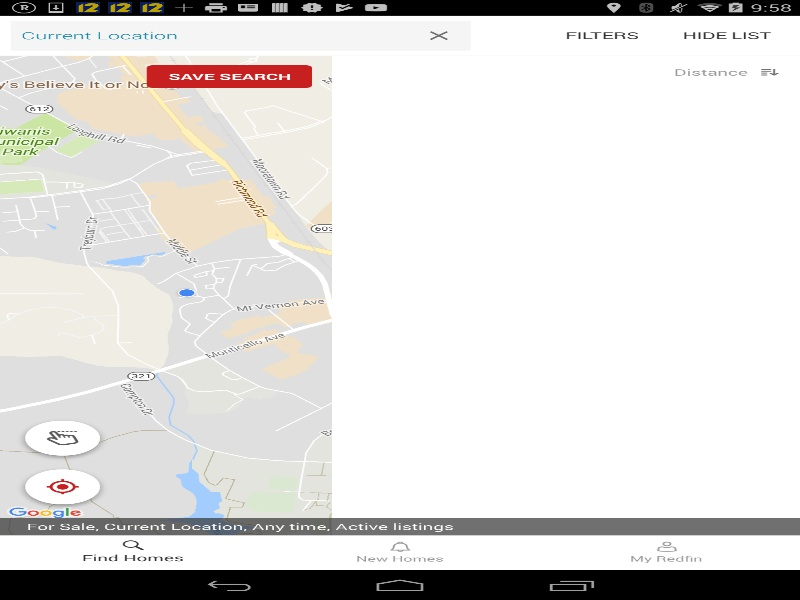Button: (13, 416, 112, 463), (13, 465, 112, 511), (146, 65, 312, 87), (554, 20, 672, 50), (672, 20, 789, 50), (408, 26, 470, 45)
Input: (21, 20, 408, 50)
